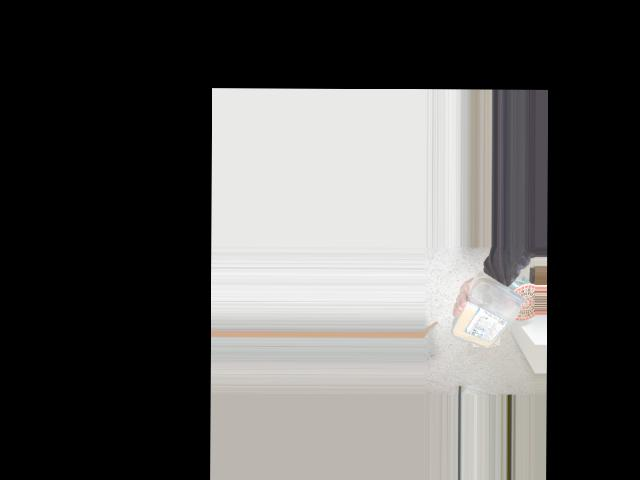cheese: (459, 280, 526, 354)
